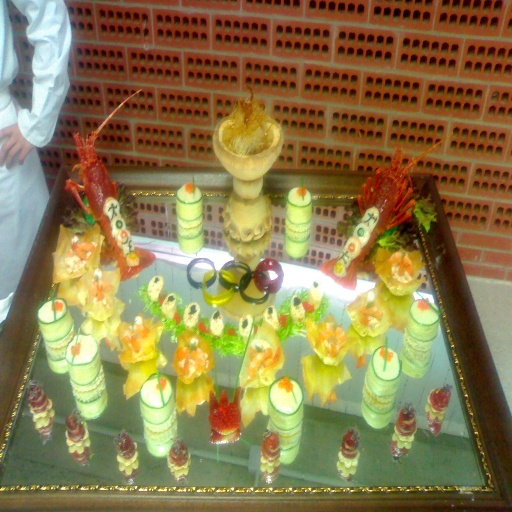hand: (0, 120, 35, 168)
